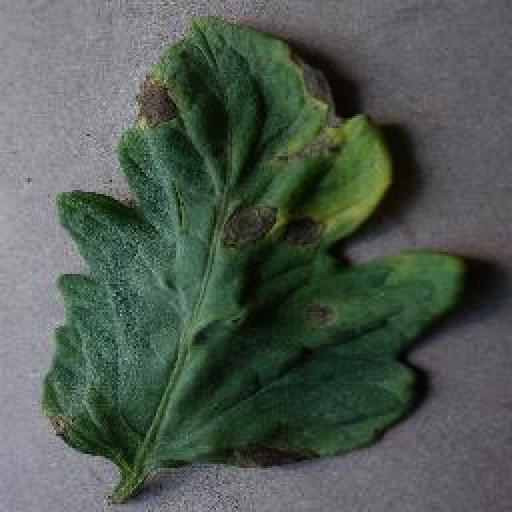disease_tomato: (38, 12, 467, 472)
